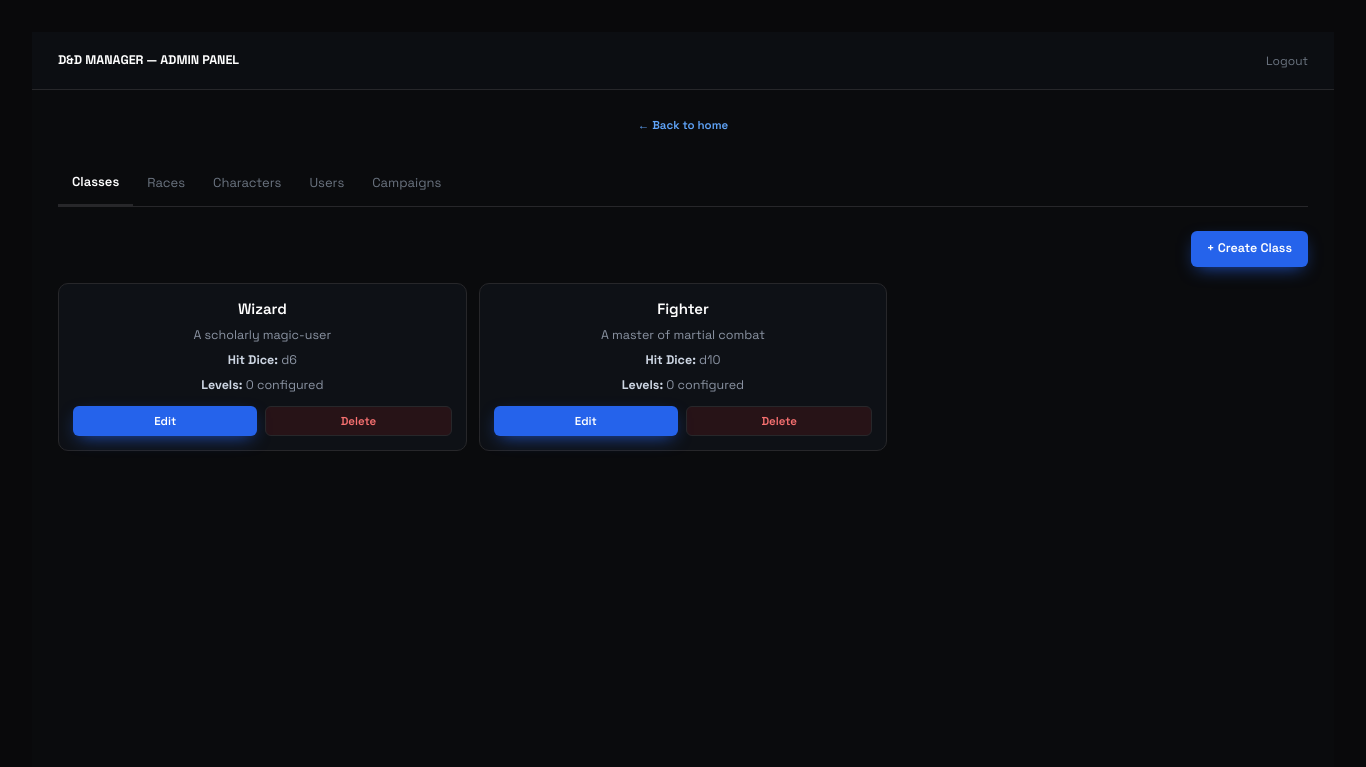
Test: AdminPanel — Classes saving throws › pre-checks the correct saving throws when editing a class
The width and height of the screenshot is (1366, 767).
Expected: the heading "Wizard" is shown, [238,298,287,318]
What coordinates should you click on to do the following:
click the button "Edit" below "A scholarly magic-user"
I would click on:
 (165, 421)
Its box is [73,406,257,436].
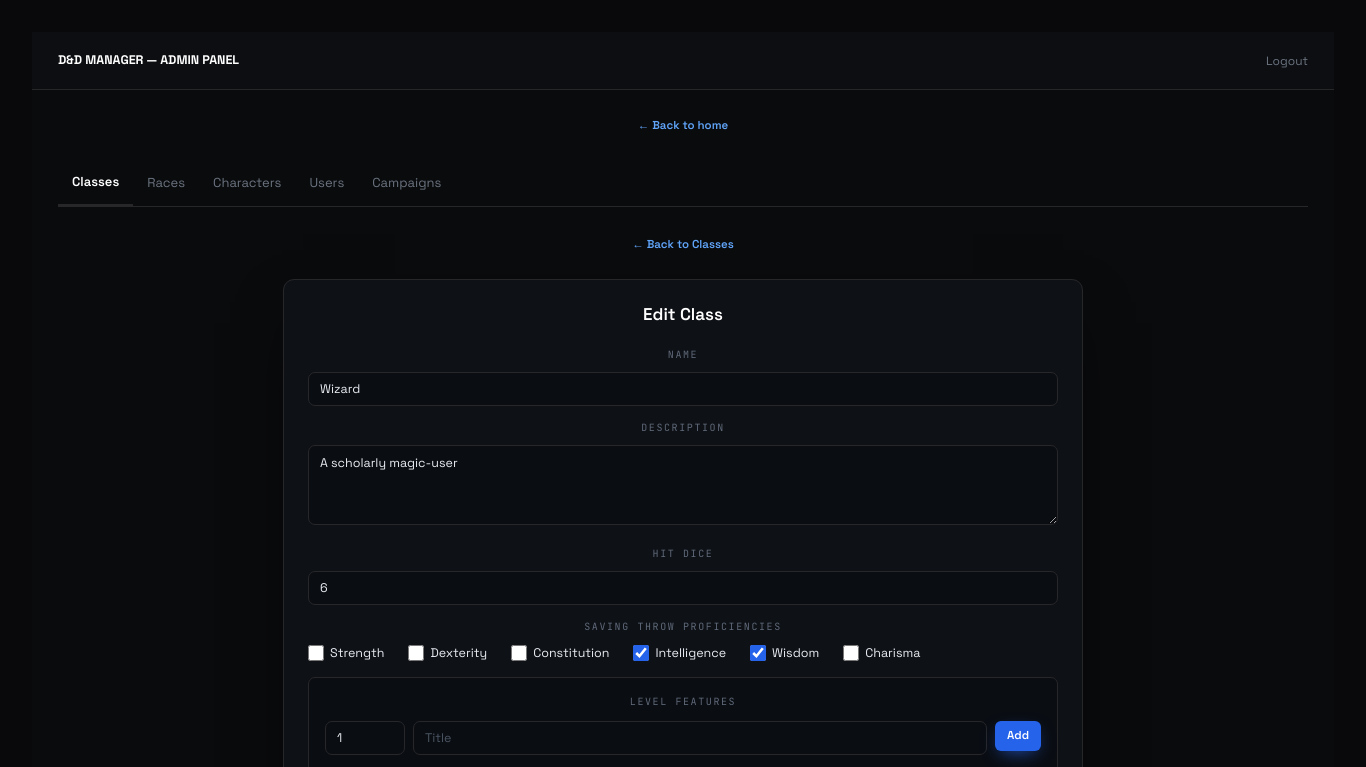
Result: the checkbox labelled "Intelligence" is checked at [634,645,650,661]
Result: the checkbox labelled "Wisdom" is checked at [750,645,766,661]
Result: the checkbox labelled "Strength" is not checked at [308,645,324,661]
